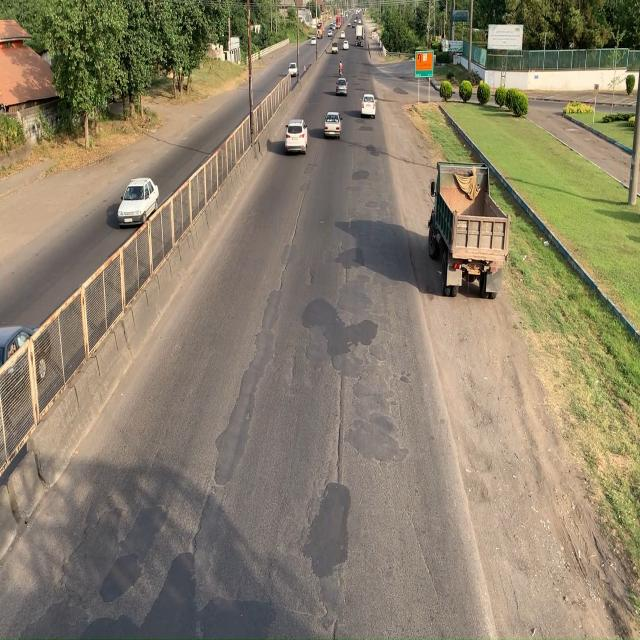Truck: (428, 156, 512, 304)
cars: (116, 177, 161, 231), (284, 115, 311, 155), (322, 104, 346, 141), (361, 90, 378, 118)
